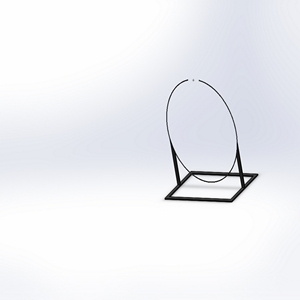circle: (162, 76, 259, 201)
